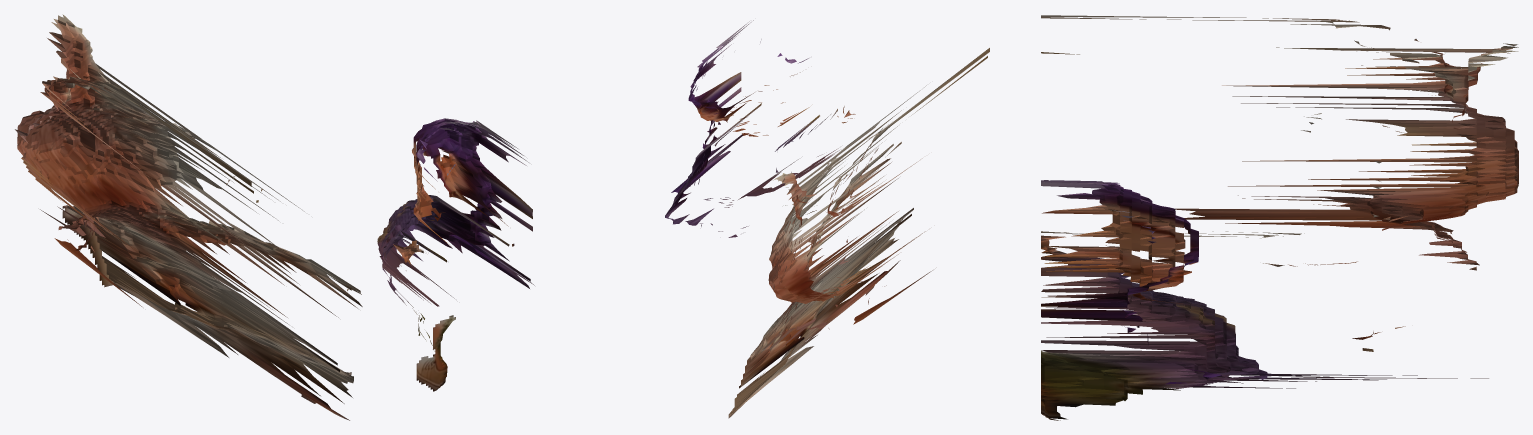
File: frame_00342.glb
3 views of the same model, side by side, from view 1: azimuth 30°, elevation 25°; view 2: azimuth 150°, elevation 25°; view 3: azimuth 270°, elevation 25° (orthographic). The views are drawn at different scales.
Visible parts, largest first — view 1: geometry_0; view 2: geometry_0; view 3: geometry_0.
Boxes of the visible parts, left/top/right/bottom form: geometry_0: left=15, top=14, right=534, bottom=420; geometry_0: left=665, top=20, right=989, bottom=418; geometry_0: left=1041, top=15, right=1518, bottom=420.
Size of the model in its own units: 0.1367 by 0.1184 by 0.16.
Materials: 1 (1 with a texture image).
